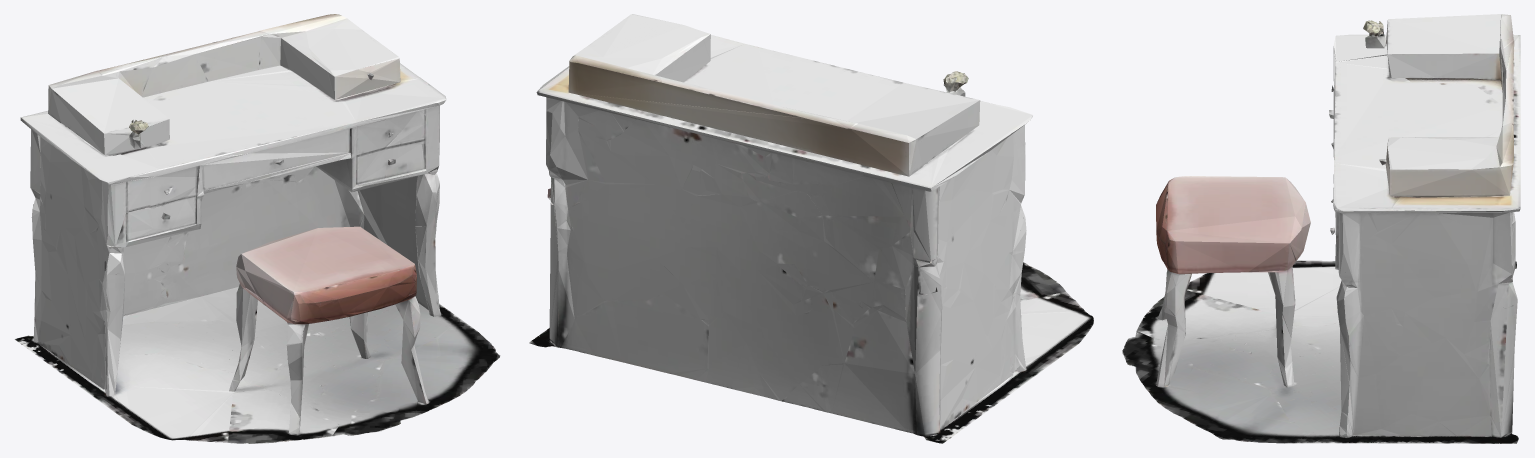
The model's file is vanity.glb.
3 views of the same model, side by side, from view 1: azimuth 30°, elevation 25°; view 2: azimuth 150°, elevation 25°; view 3: azimuth 270°, elevation 25° (orthographic). The views are drawn at different scales.
Parts seen in each view (by area): view 1: world; view 2: world; view 3: world.
Boxes of the visible parts, x1,y1,x2,y2 form: world: (14,14,500,443); world: (529,14,1093,443); world: (1122,14,1520,443).
Bounding box in the file's own units: 1 × 0.6853 × 0.9212.
1 material, 1 textured.
